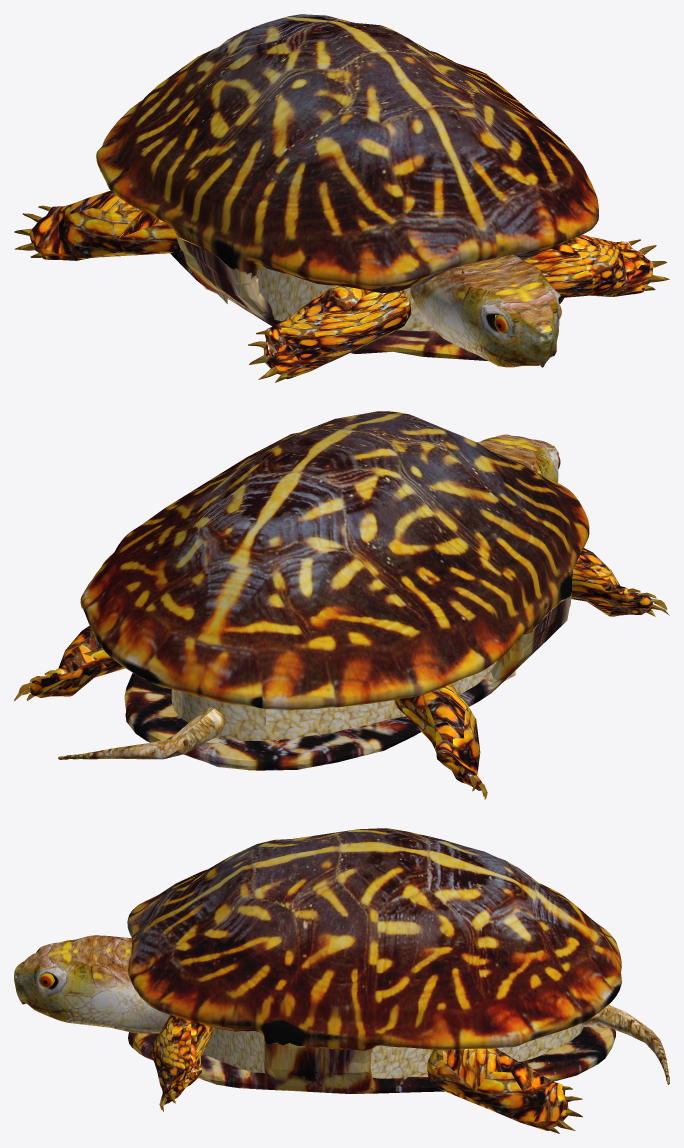
The picture shows the model from 3 angles, top to bottom: view 1: azimuth 30°, elevation 25°; view 2: azimuth 150°, elevation 25°; view 3: azimuth 270°, elevation 25°; orthographic projection. The views are drawn at different scales.
Parts seen in each view (by area): view 1: 3DSMeshMatrix (×8); view 2: 3DSMeshMatrix (×9); view 3: 3DSMeshMatrix (×9).
Part boxes in pixels (x1,y1,x2,y2): 3DSMeshMatrix (×8): (29, 14, 653, 378); 3DSMeshMatrix (×9): (30, 411, 652, 790); 3DSMeshMatrix (×9): (14, 828, 669, 1130).
Size of the model in its own units: 2952 by 1455 by 4171.
Materials: 9 (9 with a texture image).
